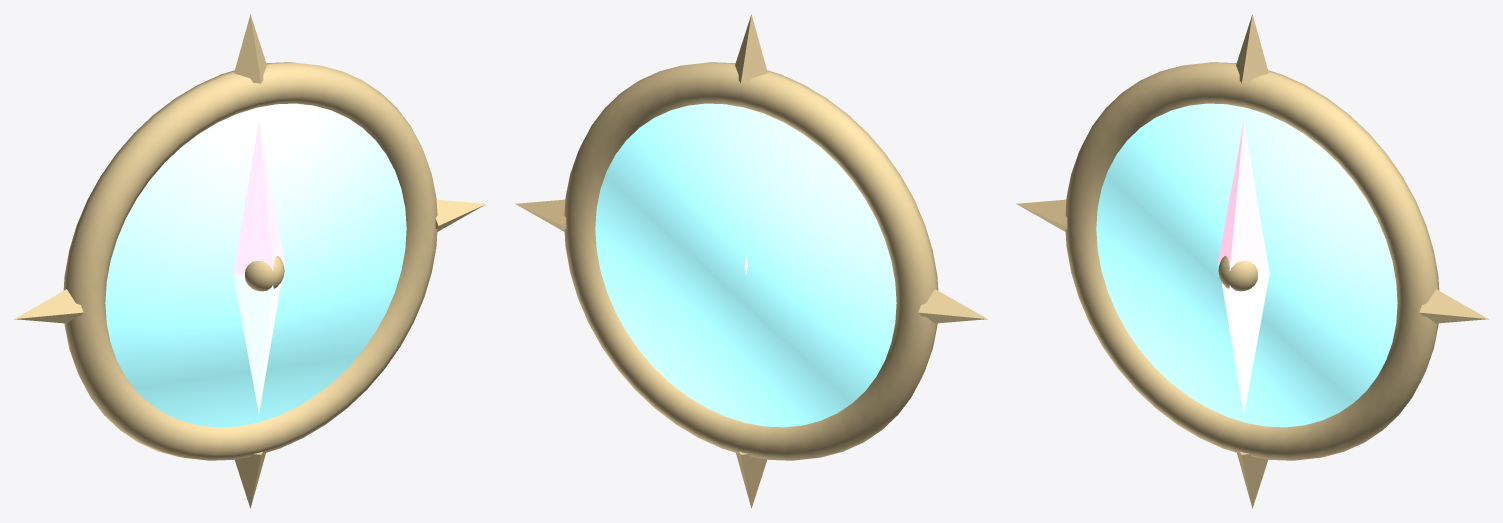
File: relic_0.glb
The picture shows the model from 3 angles, left to right: view 1: azimuth 30°, elevation 25°; view 2: azimuth 150°, elevation 25°; view 3: azimuth 330°, elevation 25°; orthographic projection.
Visible parts, largest first — view 1: Torus; view 2: Torus; view 3: Torus.
Boxes of the visible parts, x1,y1,x2,y2 form: Torus: (14, 14, 486, 508); Torus: (515, 14, 987, 508); Torus: (1016, 14, 1488, 508).
Bounding box in the file's own units: 1.1 × 1.1 × 0.1375.
